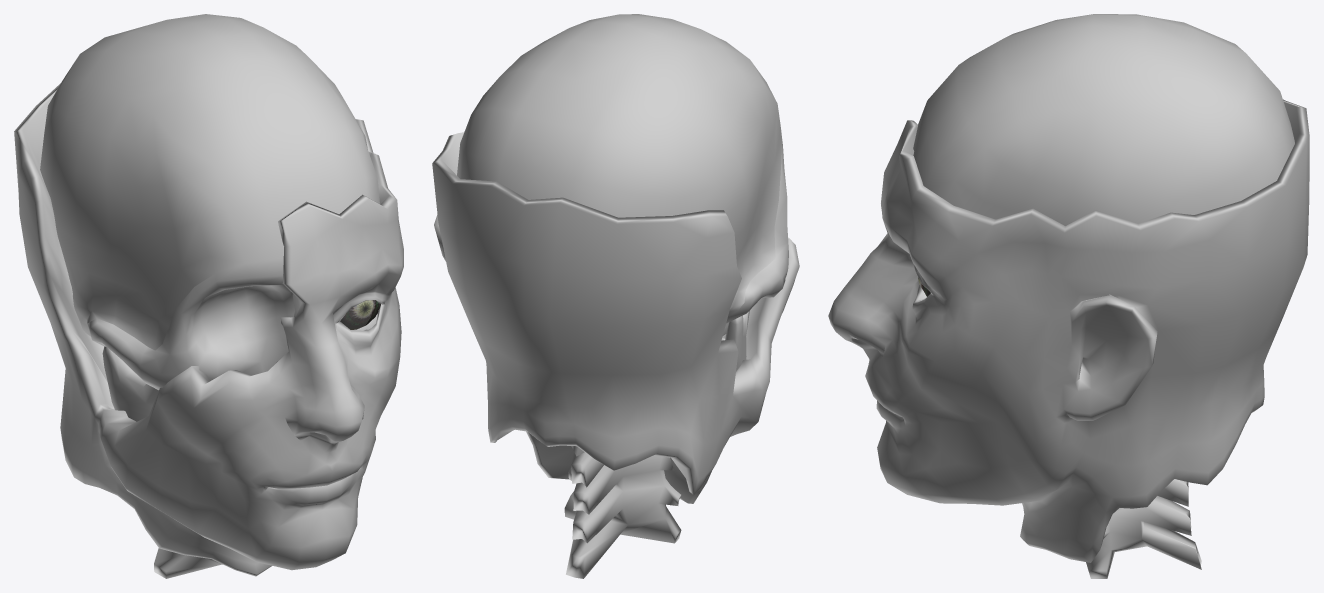
The model's file is Head_02.fbx.
The picture shows the model from 3 angles, left to right: view 1: azimuth 30°, elevation 25°; view 2: azimuth 150°, elevation 25°; view 3: azimuth 270°, elevation 25°; orthographic projection. The views are drawn at different scales.
Parts seen in each view (by area): view 1: Head_02; view 2: Head_02; view 3: Head_02.
Boxes of the visible parts, x1,y1,x2,y2 form: Head_02: [14, 14, 403, 578]; Head_02: [432, 14, 799, 578]; Head_02: [828, 14, 1309, 578].
Size of the model in its own units: 16.69 by 26.98 by 21.73.
